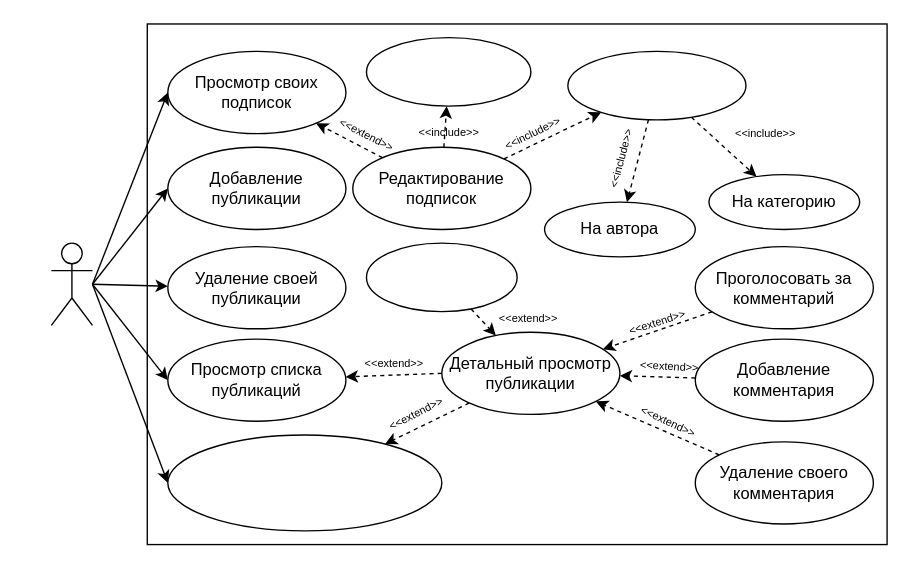
Some shapes in this 911 by 580 pixel diagram are drawn without their labels. The centre of each missing label's shape, as x and y in pixels:
Добавление подписки: the point at 656,85
Пользователь: the point at 71,283
Проголосовать за публикацию: the point at 441,277
Просмотр своей ленты информационного контента: the point at 304,482
Удаление подписки: the point at 448,71
